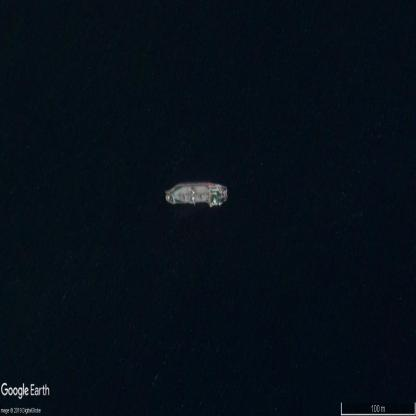ship: (164, 180, 229, 207)
